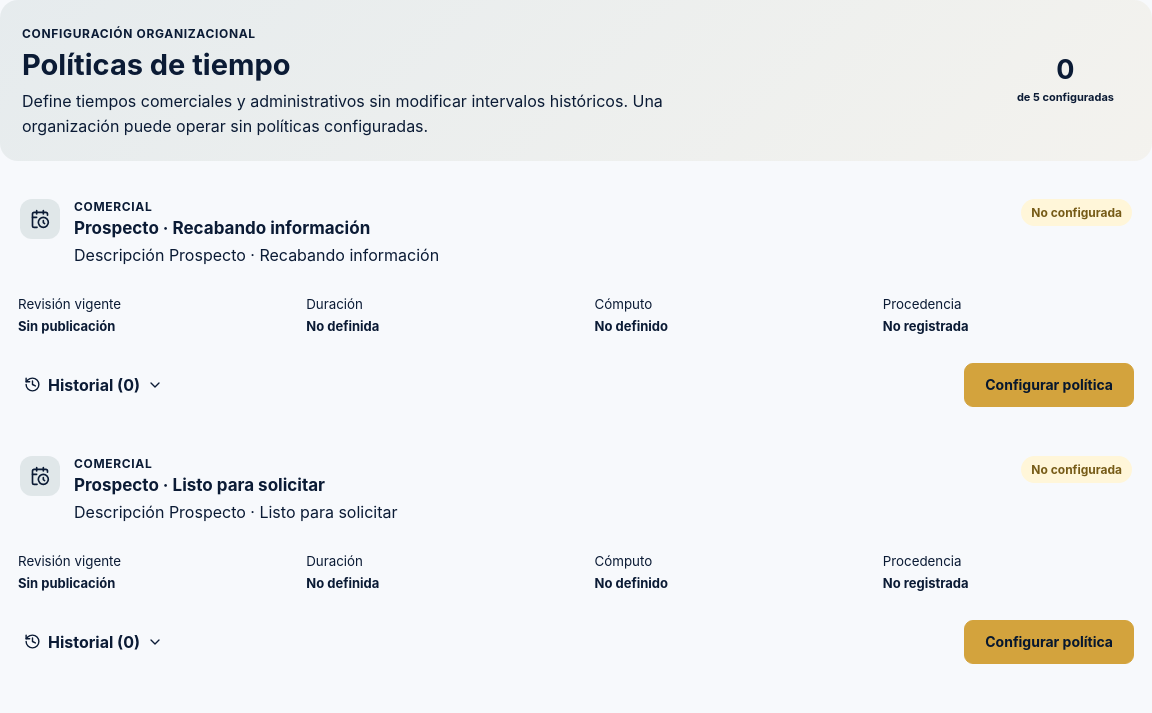
it: G0-C · configuración visual de cinco políticas › Escape cierra el diálogo y devuelve el foco al disparador
This screenshot has width=1152, height=713.
Click the 1st button "Configurar política" at (1049, 385), box [964,363,1134,407]
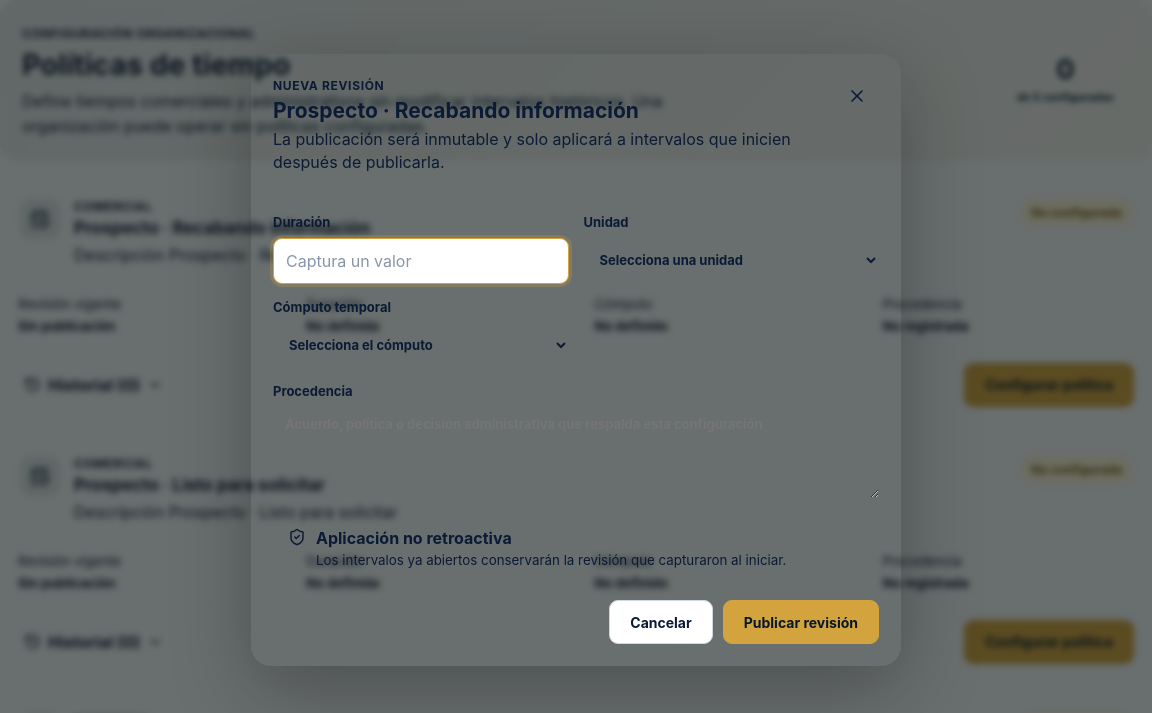
Check: the dialog is shown, box [251,54,901,666]
Press Escape
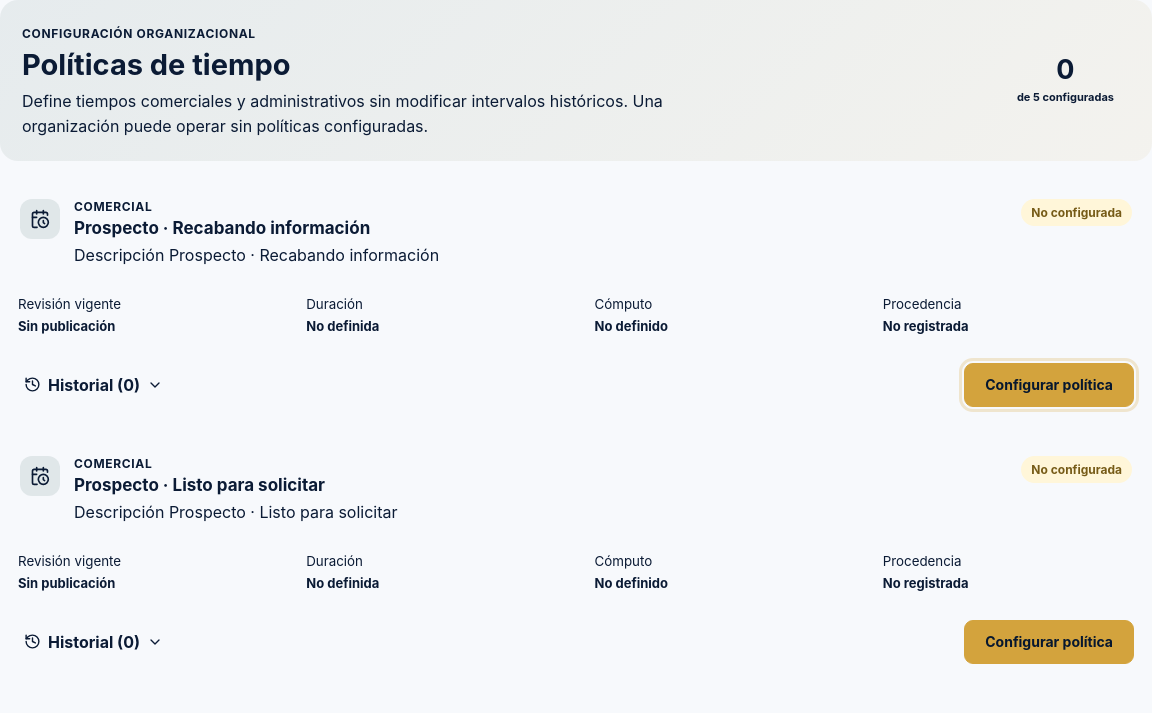
Check: the dialog is gone
